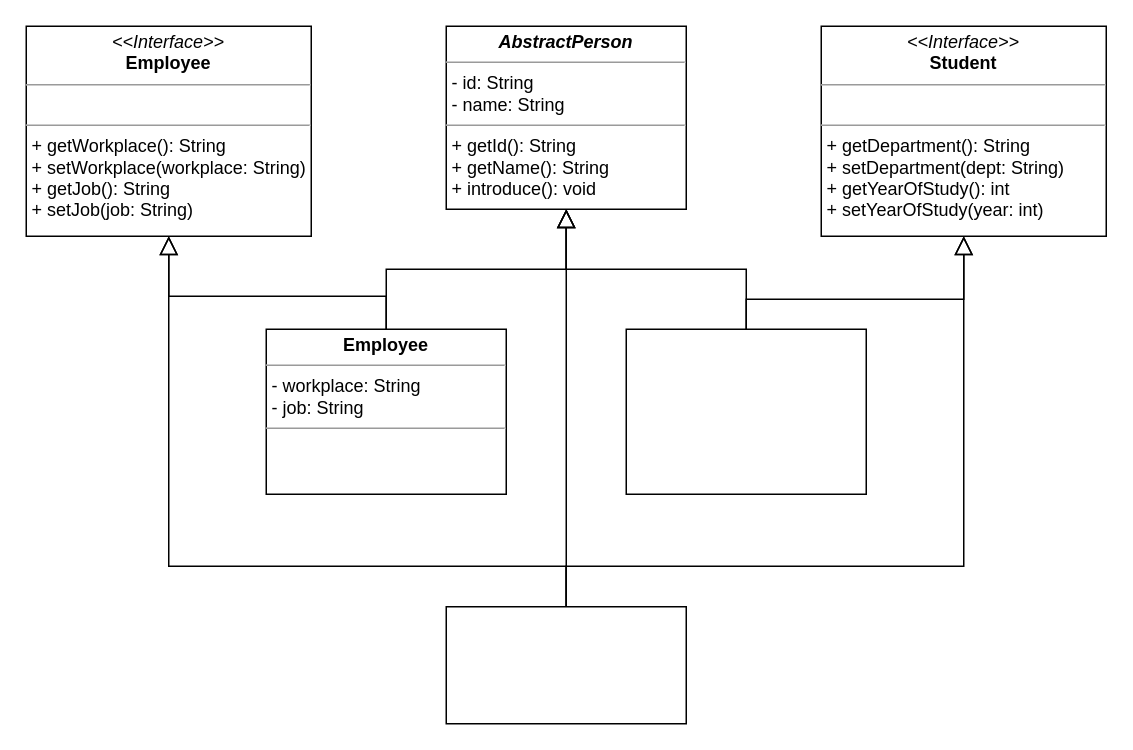
The diagram is 1133 pixels wide and 750 high, and some of its shapes have lost their labels. The shapes that lost their labels are listed below. From the top down, each one's centre as x and y in pixels, then its label:
the point at 745,411: Student - dept: String - year: int
the point at 565,664: StudentEmployee - student: Student - employee: Employee
